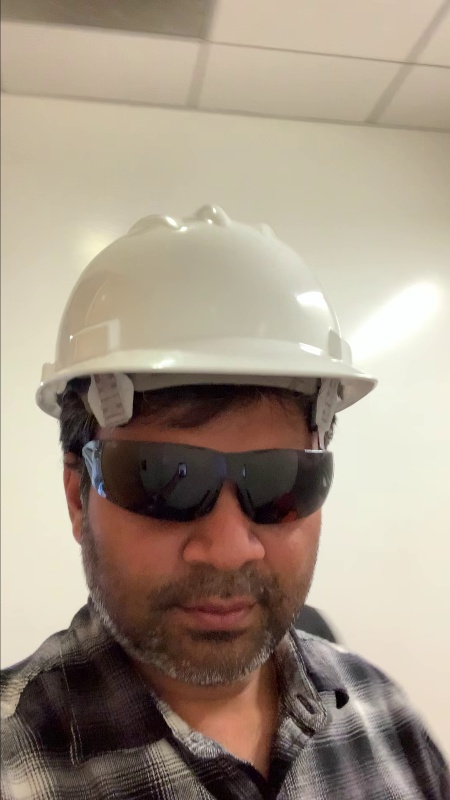glasses: (90, 429, 334, 531)
helmet: (30, 198, 384, 421)
